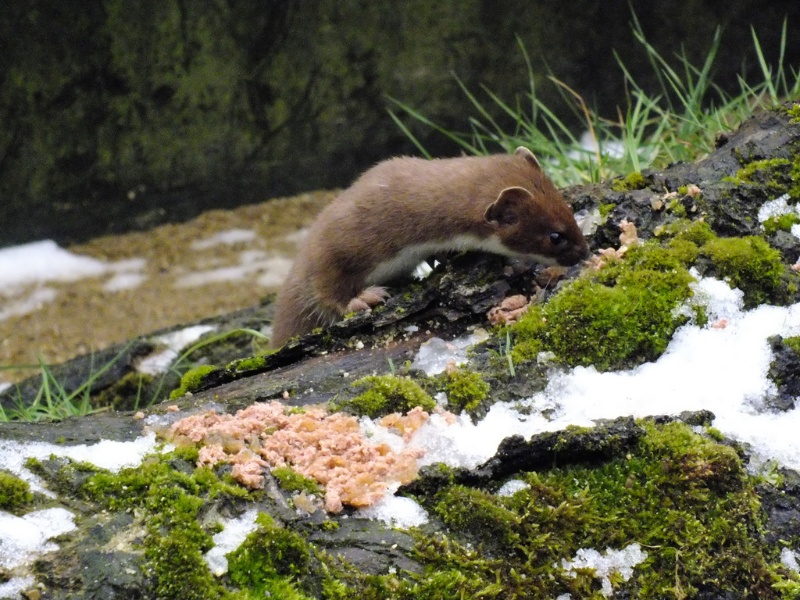minkish: (265, 137, 594, 355)
